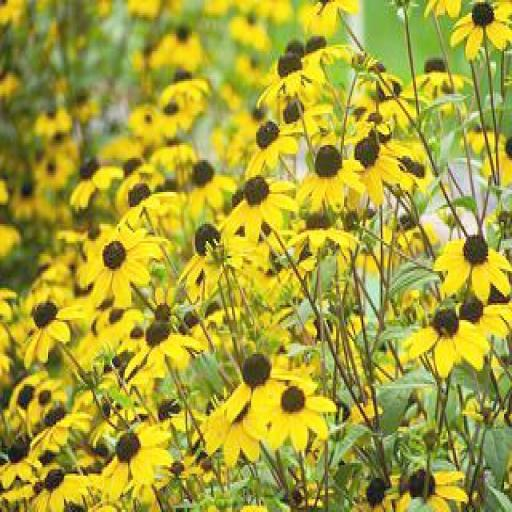sunflower: (82, 224, 162, 305), (174, 222, 264, 288), (222, 359, 318, 418), (437, 228, 512, 299), (405, 305, 488, 369), (104, 422, 170, 491), (262, 386, 333, 450), (221, 175, 296, 235), (299, 143, 362, 213), (131, 322, 205, 376), (24, 294, 85, 356), (256, 53, 320, 111), (291, 207, 360, 258), (27, 465, 101, 512), (242, 122, 302, 177), (397, 469, 472, 512), (117, 181, 189, 222), (186, 158, 236, 209)
